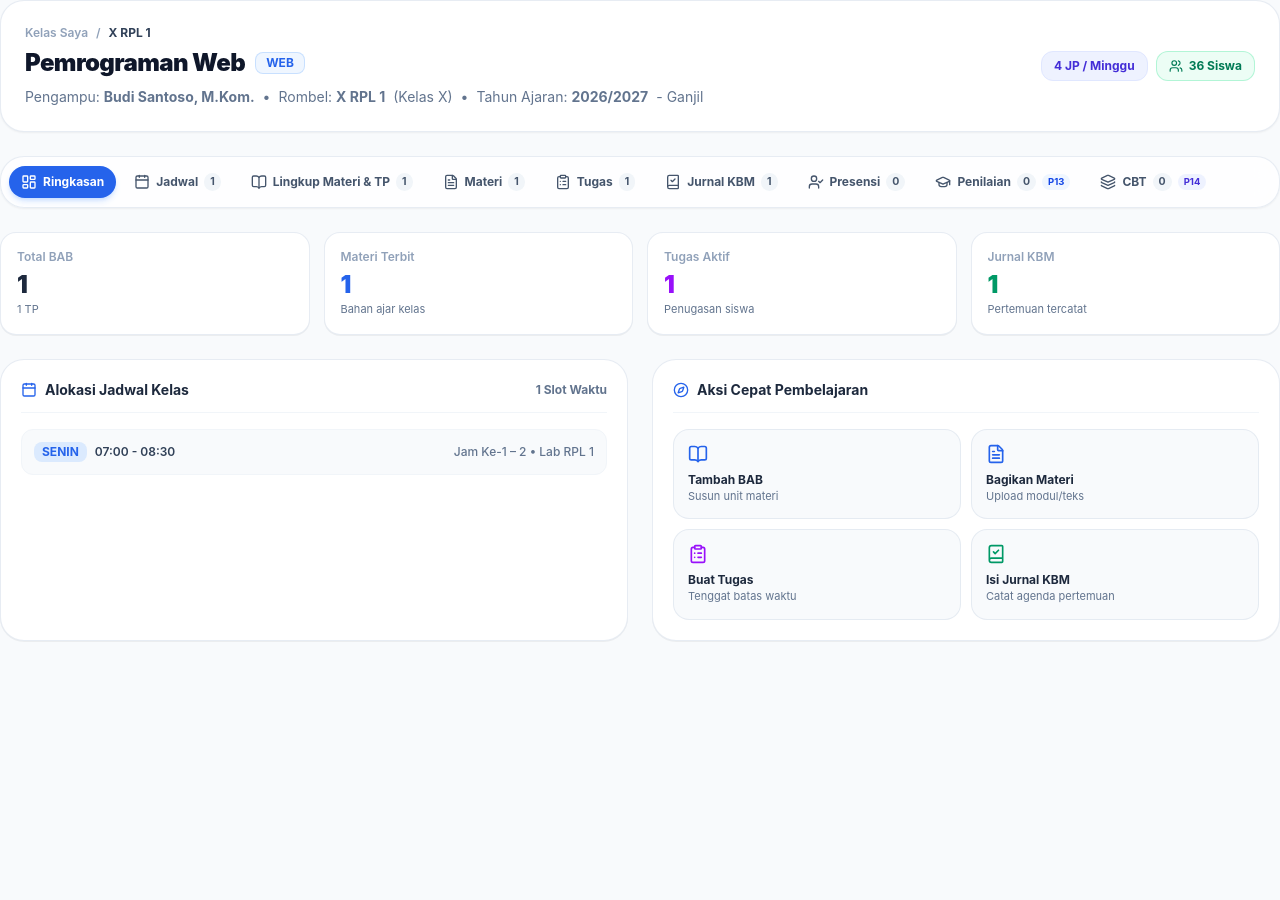
Test: M11 Learning Presentation Views › ClassWorkspaceView (/kelas-saya/[id]) › switches to Materi tab and renders published materials
Click the button "Materi 1" at (484, 182), box [430,165,537,199]
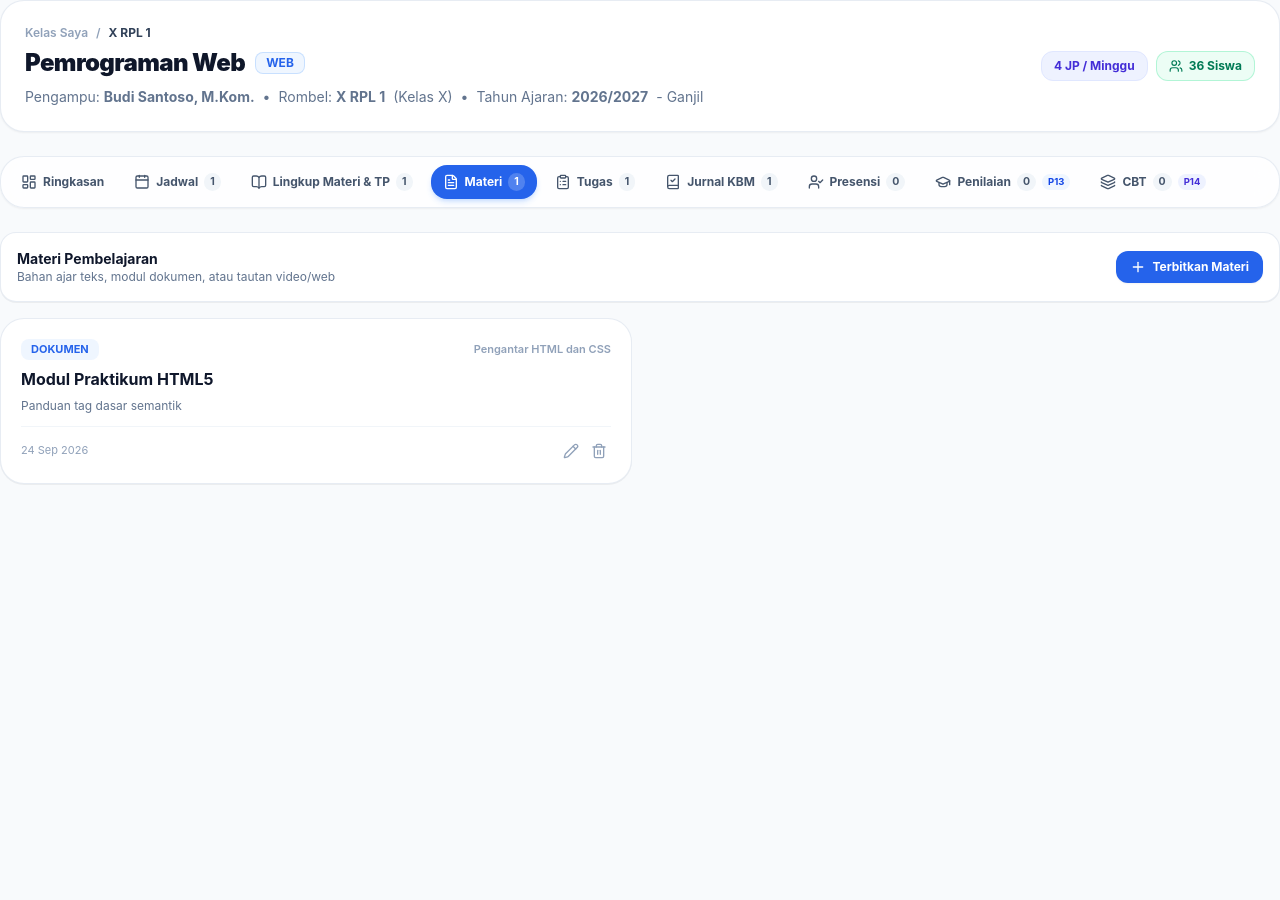
expect the heading "Modul Praktikum HTML5" is shown: met, box [21,368,214,388]
expect the text "DOKUMEN" is shown: met, box [21,339,99,360]
